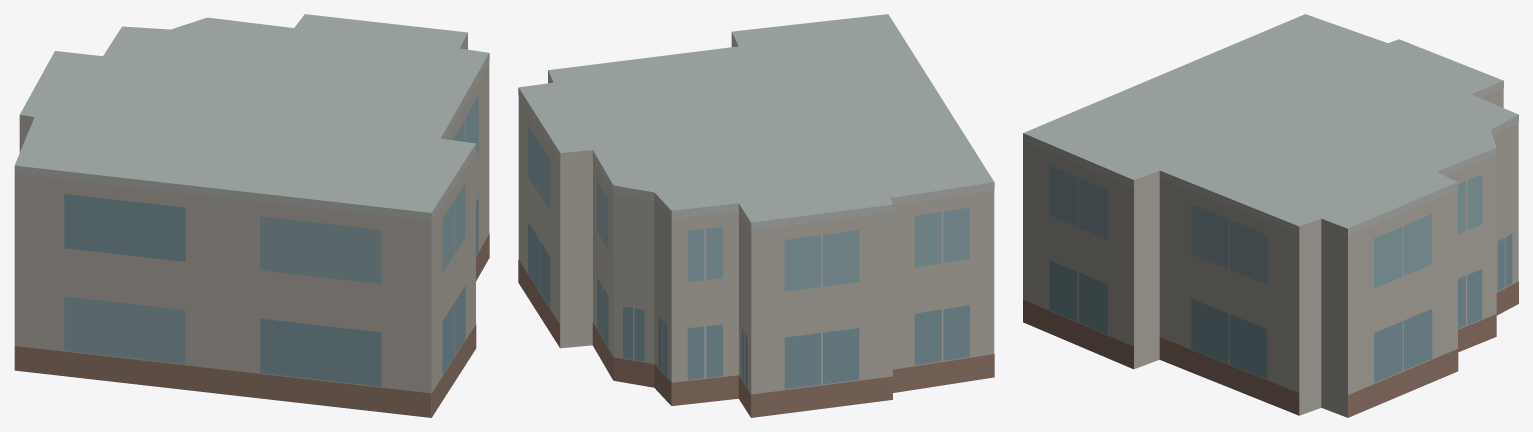
Rendered from survey-upis-32474710.glb.
3 views of the same model, side by side, from view 1: azimuth 30°, elevation 25°; view 2: azimuth 150°, elevation 25°; view 3: azimuth 270°, elevation 25° (orthographic). The views are drawn at different scales.
Visible parts, largest first — view 1: survey-upis-32474710.tmp; view 2: survey-upis-32474710.tmp; view 3: survey-upis-32474710.tmp.
Part boxes in pixels (box(x1,y1,x2,y2)): survey-upis-32474710.tmp: box(14, 14, 489, 417); survey-upis-32474710.tmp: box(518, 14, 994, 417); survey-upis-32474710.tmp: box(1023, 14, 1518, 417).
Bounding box in the file's own units: 14.85 × 6.1 × 14.49.
